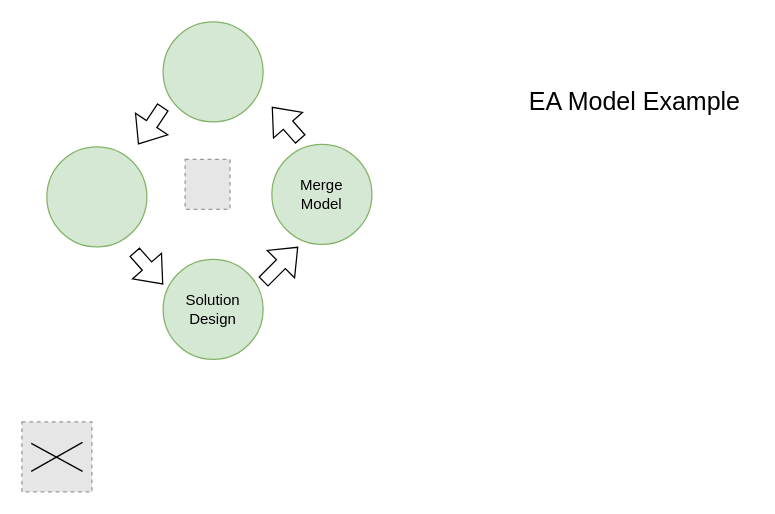
This 775x514 diagram has some shape labels left out. Grey dashed boxes stand in for pictures. Each missing label, with the centre of its shape:
EA Repository: (212,71)
Local Estract: (96,196)
